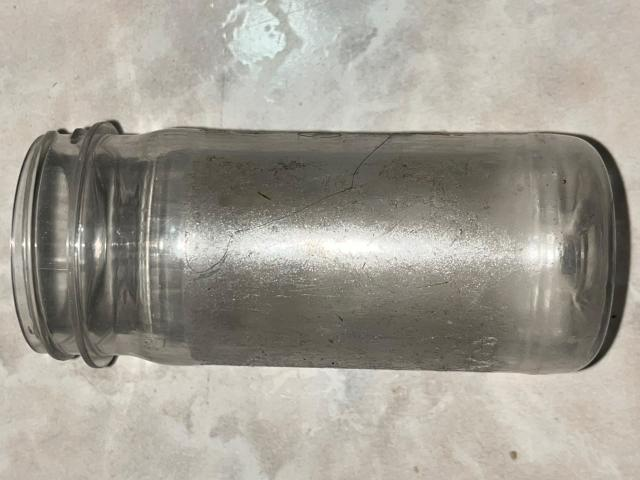PET: (8, 89, 626, 397)
